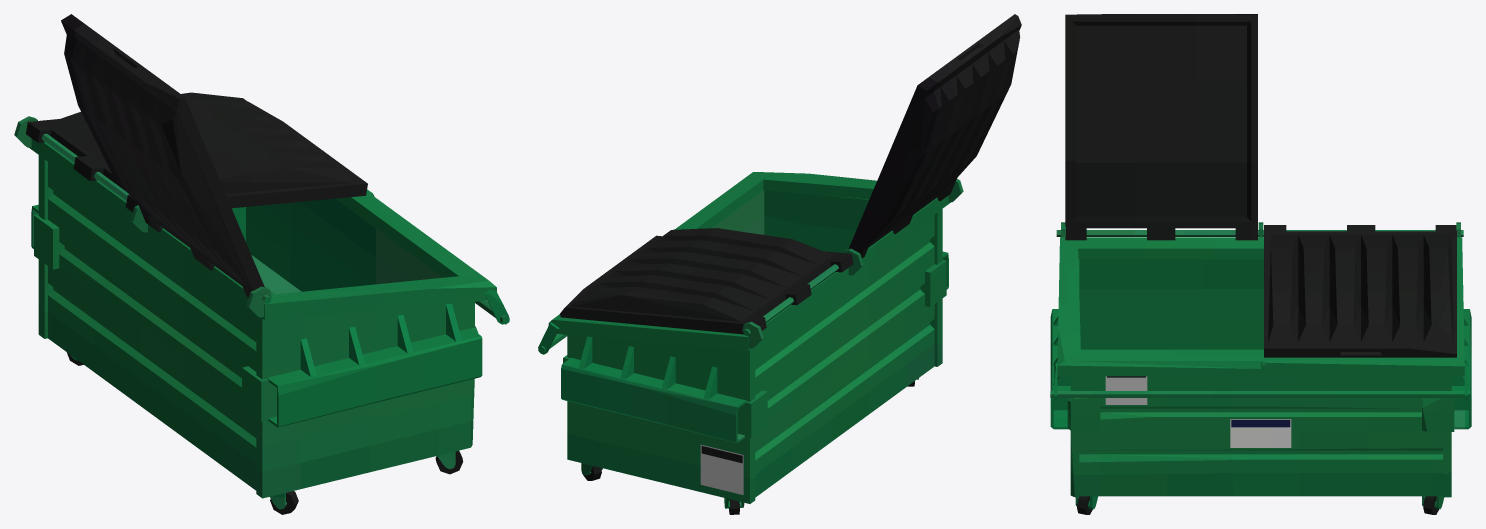
The model's file is LargeTrash01.fbx.
3 renders of one model, left to right at view 1: azimuth 30°, elevation 25°; view 2: azimuth 150°, elevation 25°; view 3: azimuth 270°, elevation 25°, orthographic. The views are drawn at different scales.
Visible parts, largest first — view 1: SM_City_LargeTrash_01c.mo; view 2: SM_City_LargeTrash_01c.mo; view 3: SM_City_LargeTrash_01c.mo.
Boxes of the visible parts, left/top/right/bottom form: SM_City_LargeTrash_01c.mo: left=14, top=14, right=509, bottom=514; SM_City_LargeTrash_01c.mo: left=538, top=14, right=1021, bottom=514; SM_City_LargeTrash_01c.mo: left=1050, top=14, right=1471, bottom=514.
Bounding box in the file's own units: 188 × 245 × 243.
